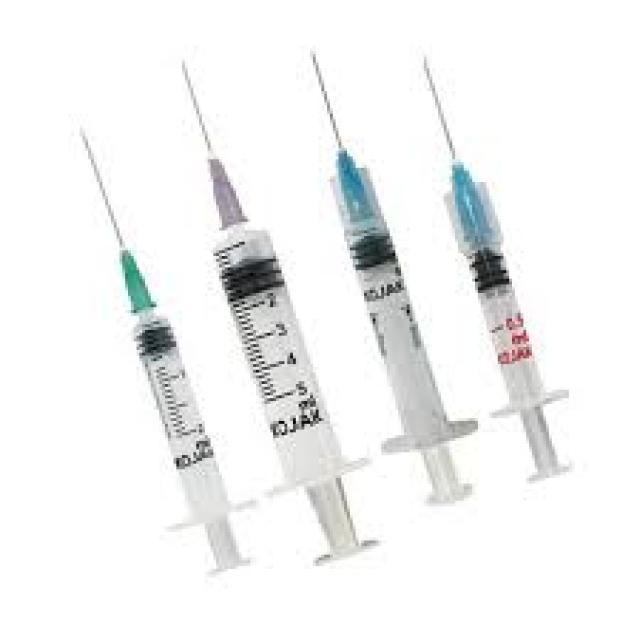syringe: (64, 34, 589, 570)
